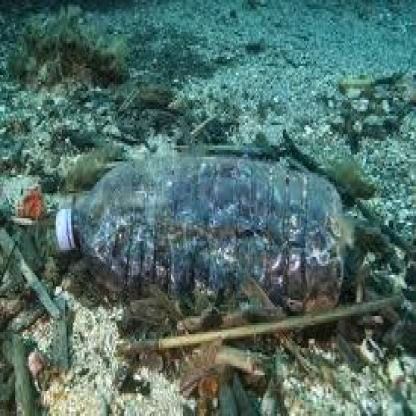pbottle: (51, 146, 345, 325)
